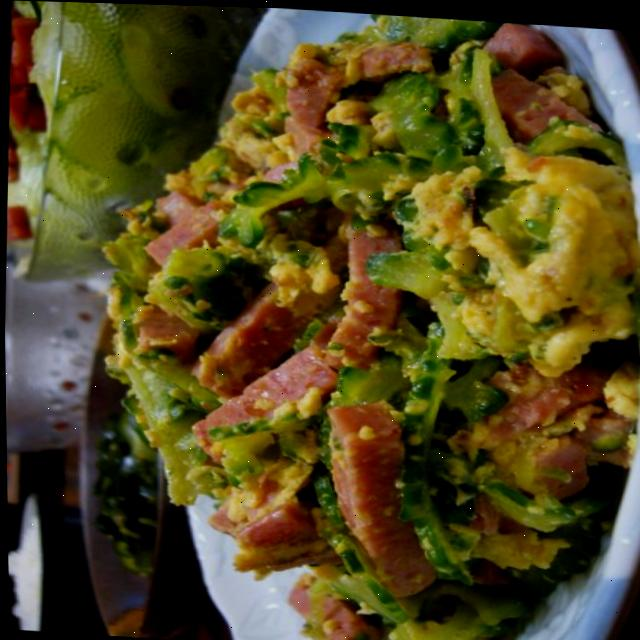熟制海鲜: (71, 2, 640, 640)
